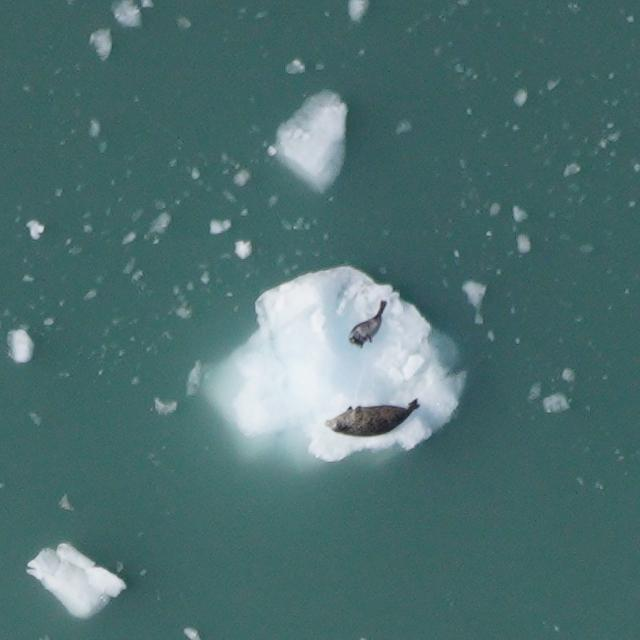seal: (322, 395, 426, 441), (345, 298, 390, 353)
